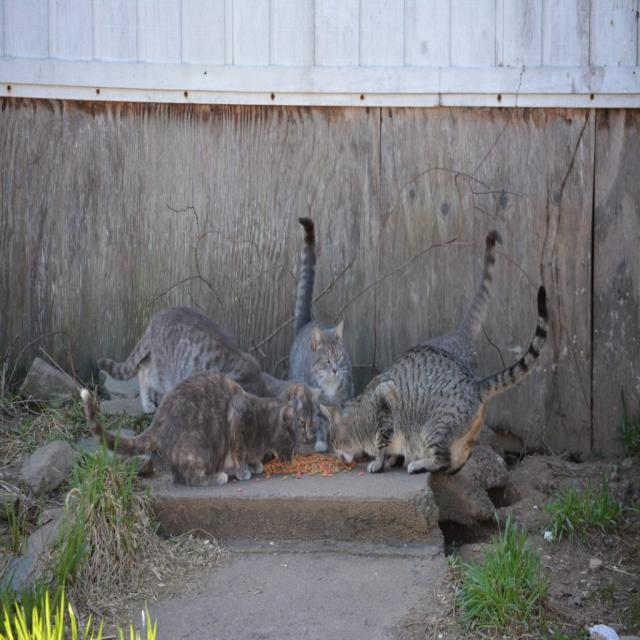cat: (321, 287, 549, 474), (98, 307, 319, 440), (81, 373, 300, 485), (289, 217, 354, 452), (422, 231, 502, 370)
